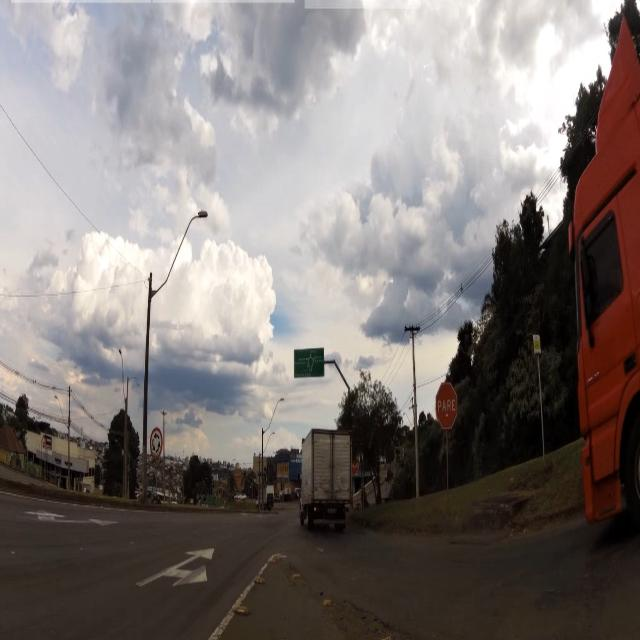I-4: (295, 348, 326, 381)
R-1: (435, 374, 461, 436)
R-33: (148, 424, 166, 464)
